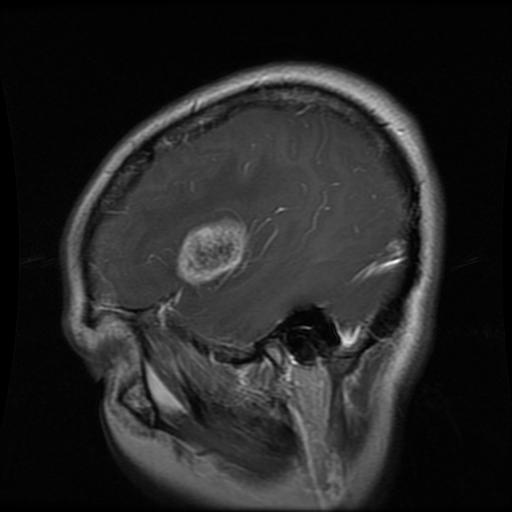Gliomia_tumour: (176, 217, 248, 284)
